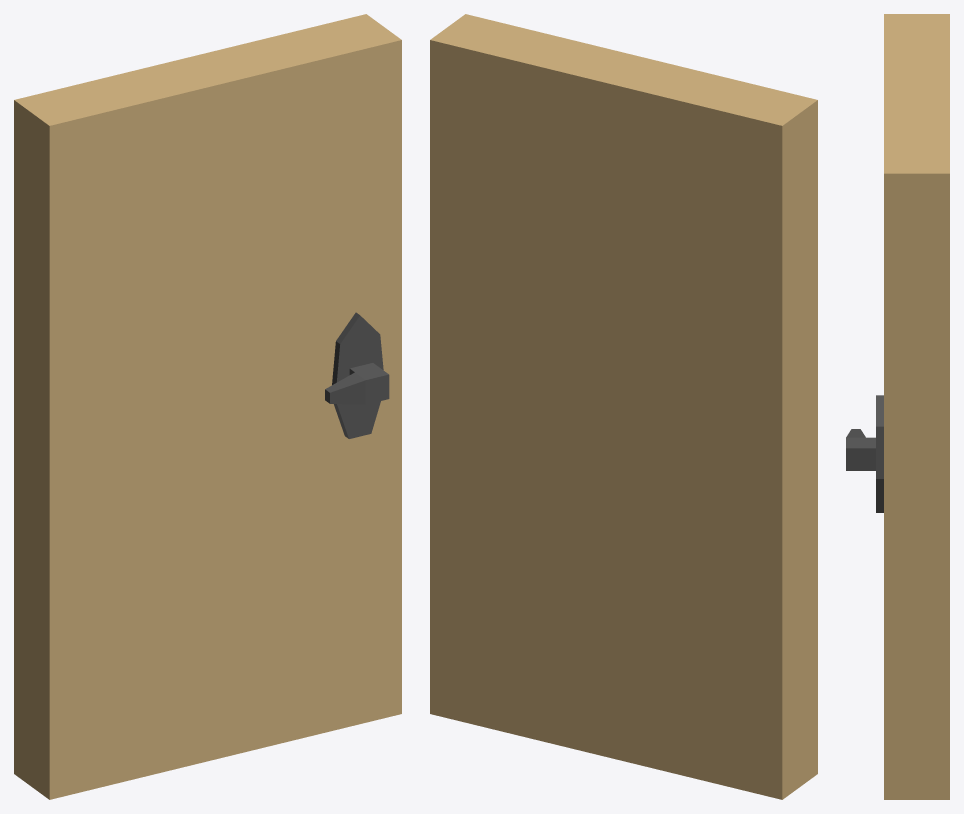
File: DOOR.fbx
The picture shows the model from 3 angles, left to right: view 1: azimuth 30°, elevation 25°; view 2: azimuth 150°, elevation 25°; view 3: azimuth 270°, elevation 25°; orthographic projection. The views are drawn at different scales.
Parts seen in each view (by area): view 1: Cube.269; view 2: Cube.269; view 3: Cube.269.
Part boxes in pixels (left/top/right/bottom): Cube.269: left=14, top=14, right=401, bottom=799; Cube.269: left=430, top=14, right=817, bottom=799; Cube.269: left=846, top=14, right=949, bottom=799.
Bounding box in the file's own units: 375 × 685 × 103.
